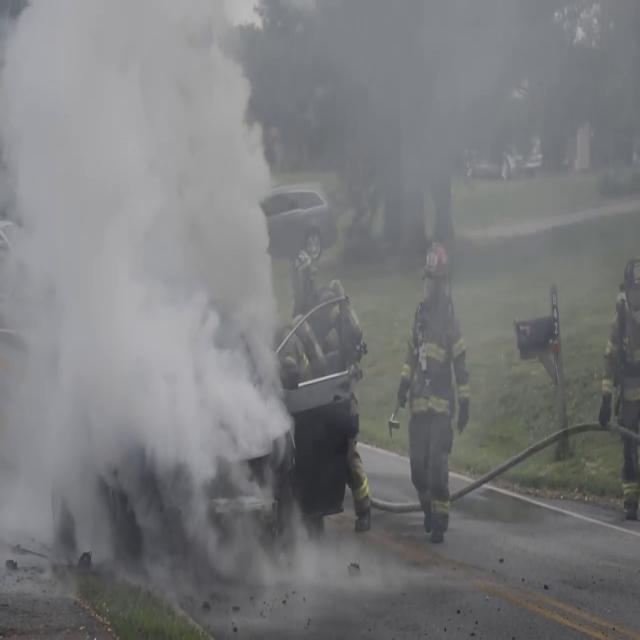Smoke: (0, 0, 330, 608), (278, 0, 624, 273)
